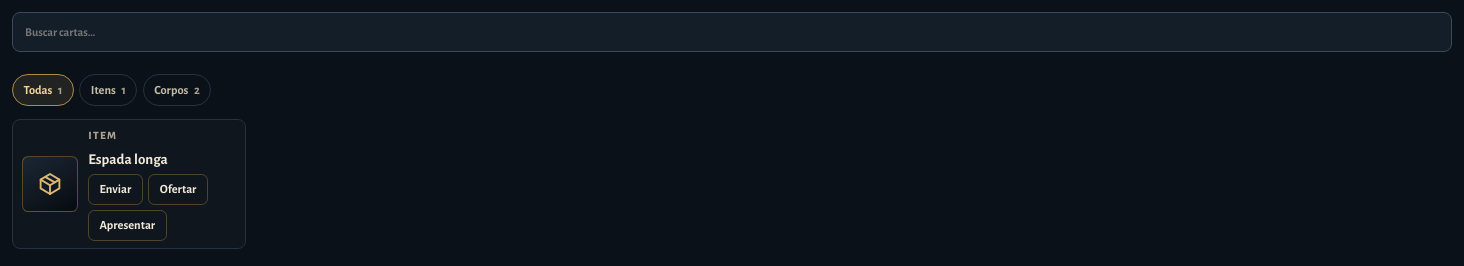
Test: aba Cartas do painel da Sala › os corpos do sistema têm filtro próprio, separado de Itens, e figura humanoide em vez da pintura de Criaturas
Expected: the text "Espada longa" is shown, [88,152,168,167]
Expected: the text "Corpo Médio" is not shown
Click the button "Corpos 2". click: (177, 90)
box: [143,74,211,106]
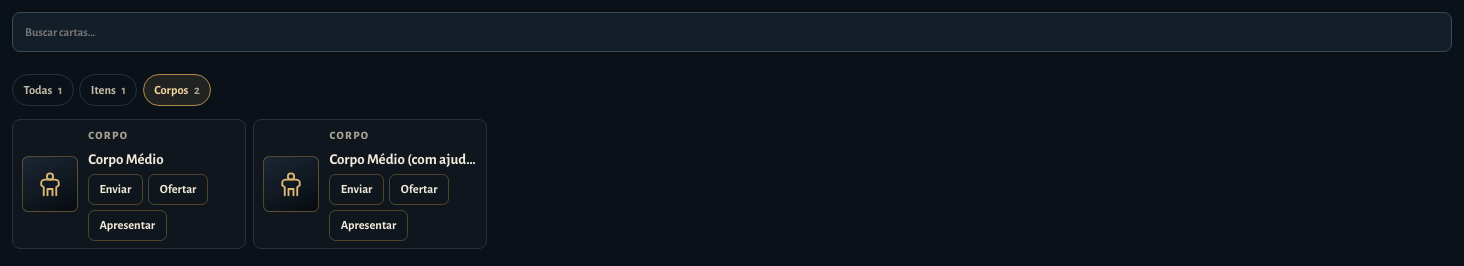
Expected: the 1st icon with class "icone-categoria" is shown, [35,169,65,199]
Now the text "Espada longa" is gone
Now the 1st text with class "cartas-painel__tipo" reads "Corpo", box [88,130,128,141]
